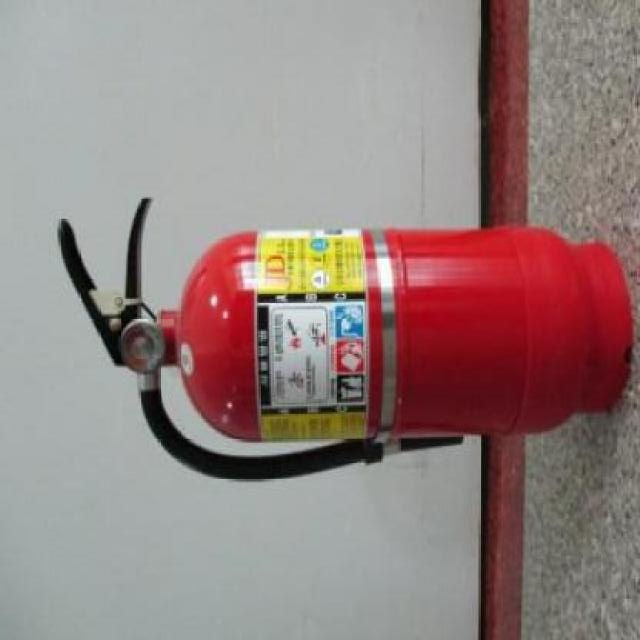fire extinguisher: (57, 196, 632, 481)
